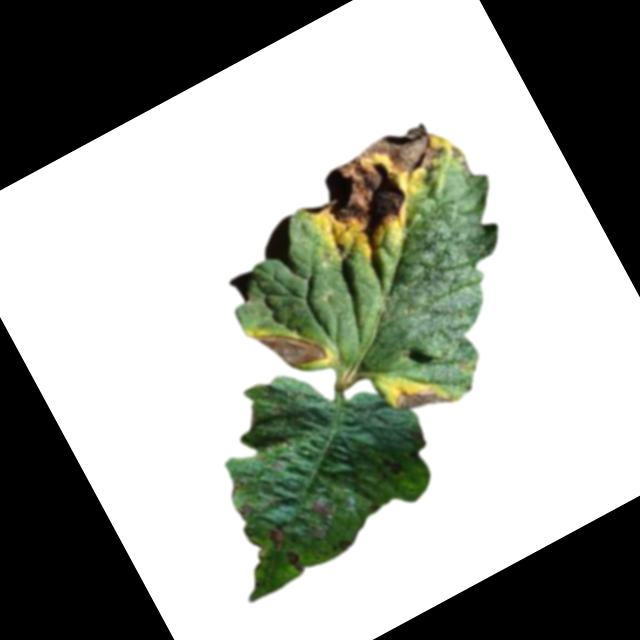Early_blight: (288, 110, 476, 277), (249, 304, 337, 388), (384, 366, 459, 430), (304, 492, 340, 526), (264, 524, 297, 557), (283, 549, 307, 577), (234, 498, 260, 521)
